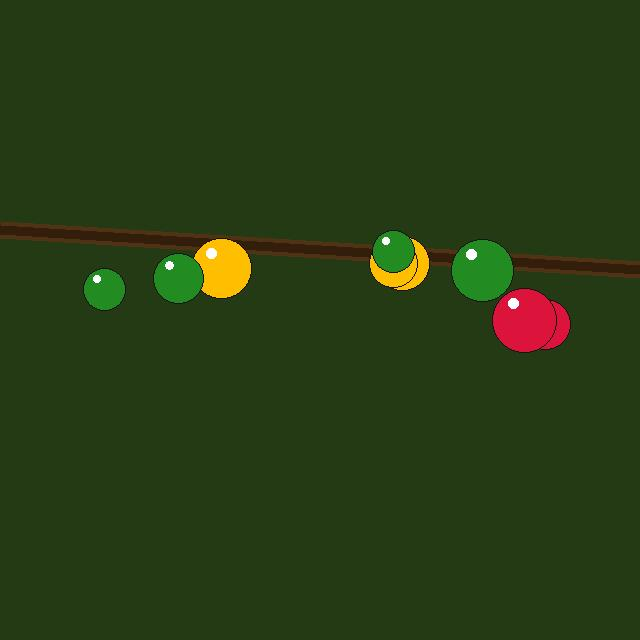Ripe: (492, 288, 556, 352), (520, 299, 570, 349)
Ripening: (191, 238, 251, 298), (375, 236, 429, 290), (369, 239, 417, 287)
Unripe: (451, 239, 513, 301), (153, 253, 203, 303), (83, 268, 125, 310), (372, 230, 414, 272)
